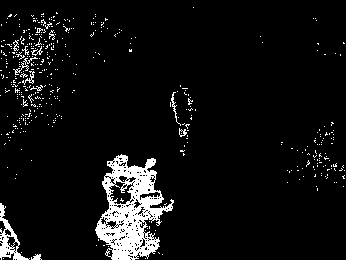person: (168, 83, 196, 159)
